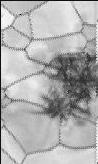good_void: (30, 51, 97, 127)
